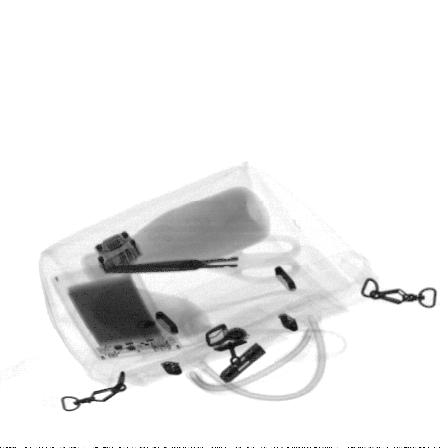Powerbank: (52, 257, 186, 365)
Scissors: (104, 233, 304, 286)
